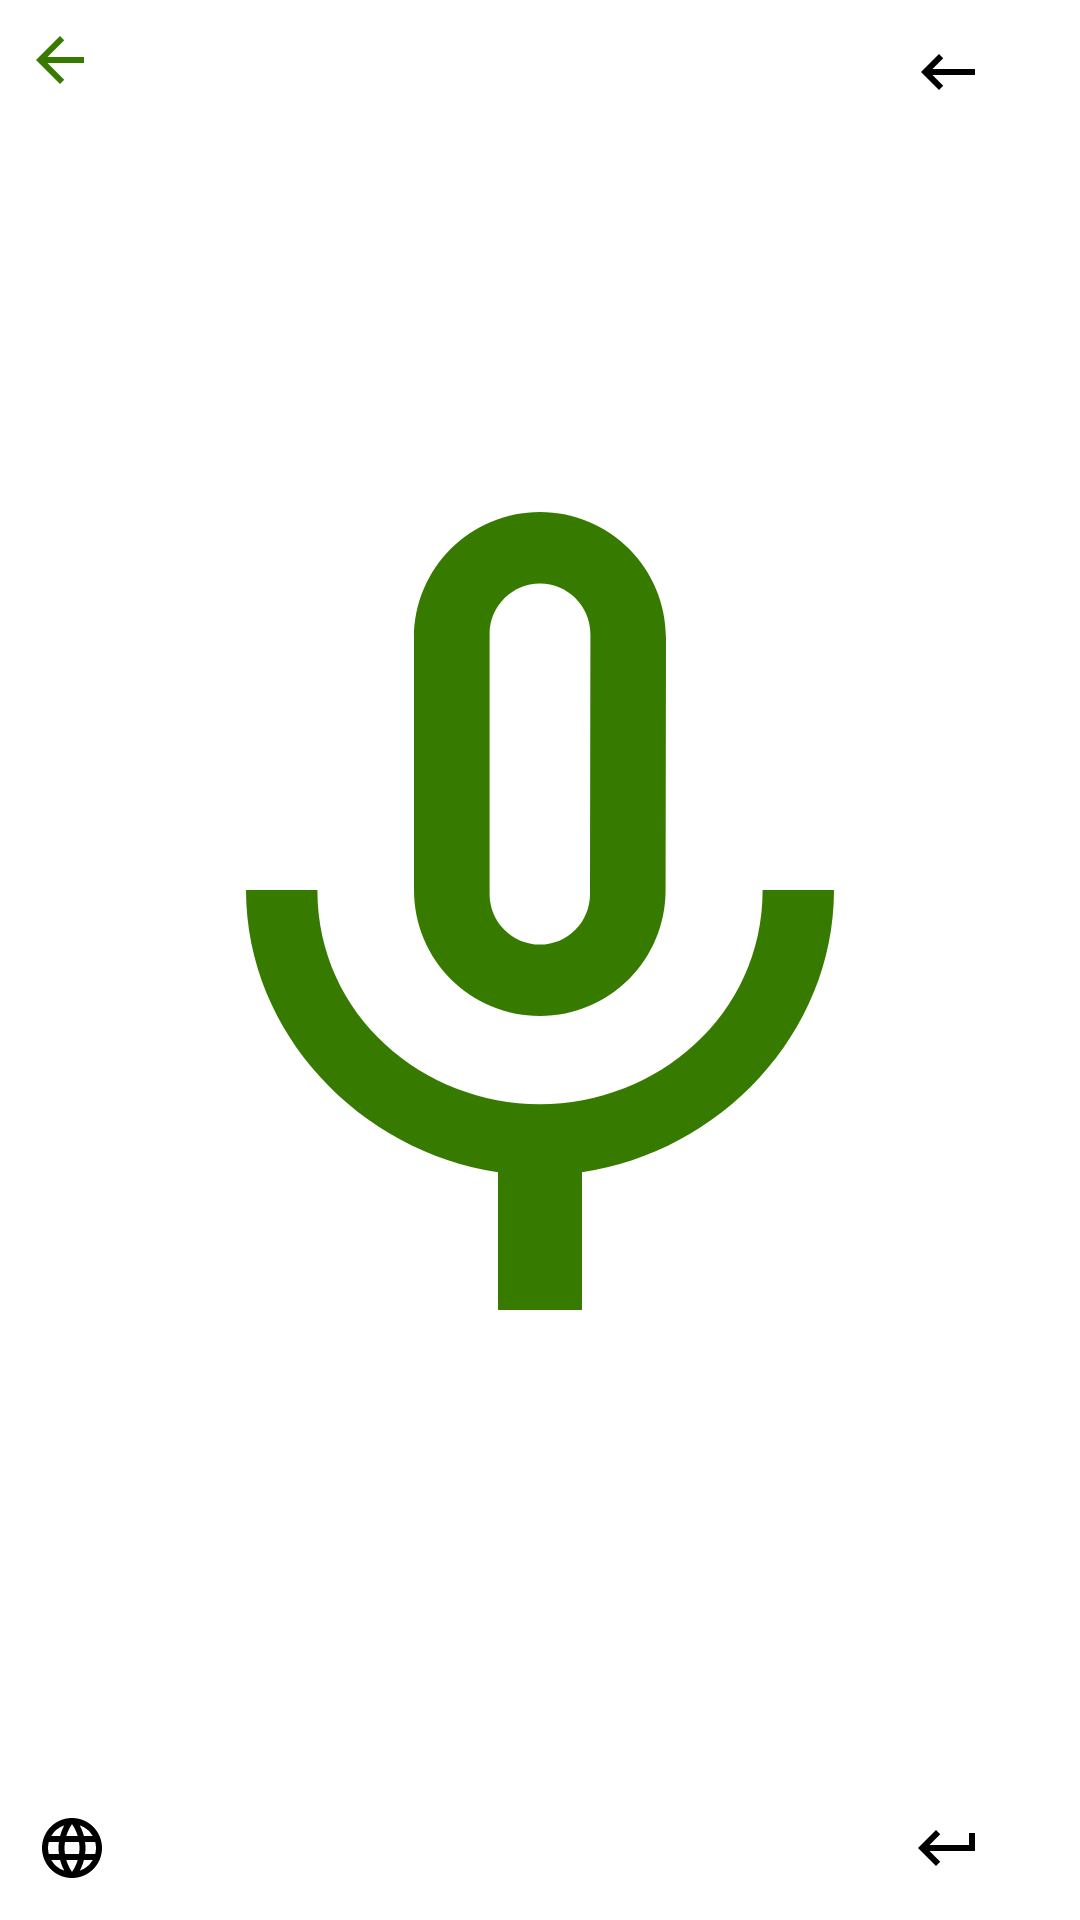

Where icons sit on this 1080 x 1920 app screen, as (x1, y1, x2, y2):
arrow back: (36, 36, 84, 84)
enter: (918, 1830, 975, 1866)
keyboard backspace: (921, 54, 975, 90)
